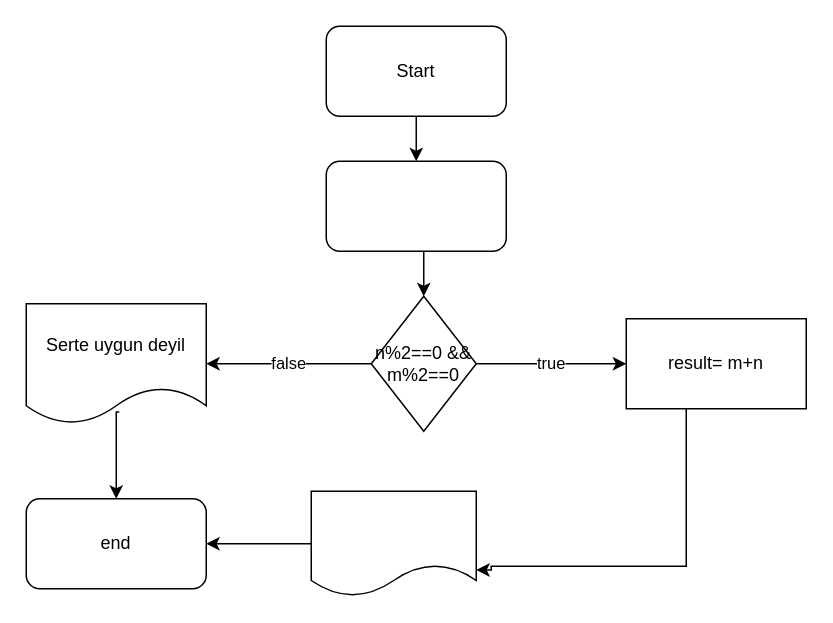
This 833x623 diagram has some shape labels left out. The shapes that lost their labels are listed below. From the top down, each one's centre as x and y in pixels, then its label:
At [415,205]: "n,m result".
At [393,543]: "result".
